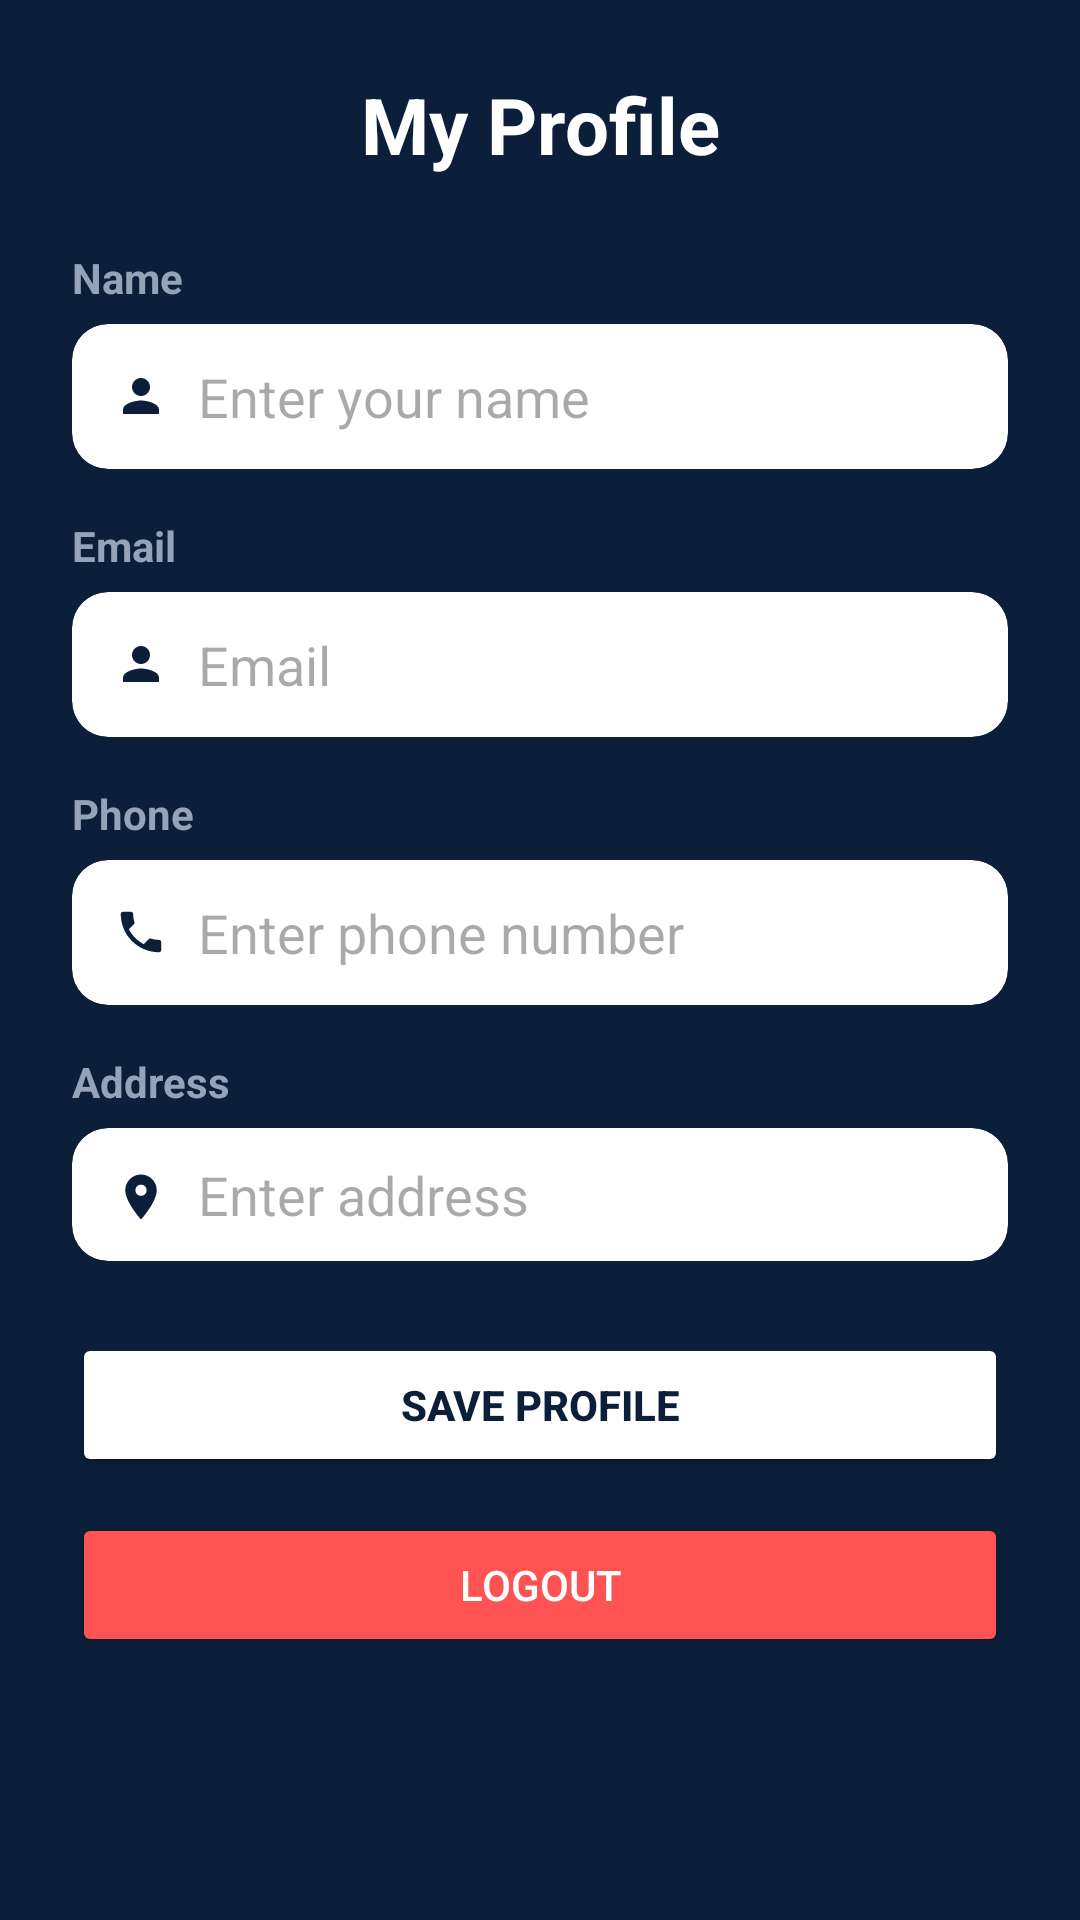

Named icons in this screenshot (1080*1920) and their bounding boxes, {"left": x1, "top": y1, "right": x2, "bottom": y2}:
location: {"left": 125, "top": 1174, "right": 157, "bottom": 1219}
person: {"left": 123, "top": 378, "right": 159, "bottom": 414}, {"left": 123, "top": 646, "right": 159, "bottom": 682}
